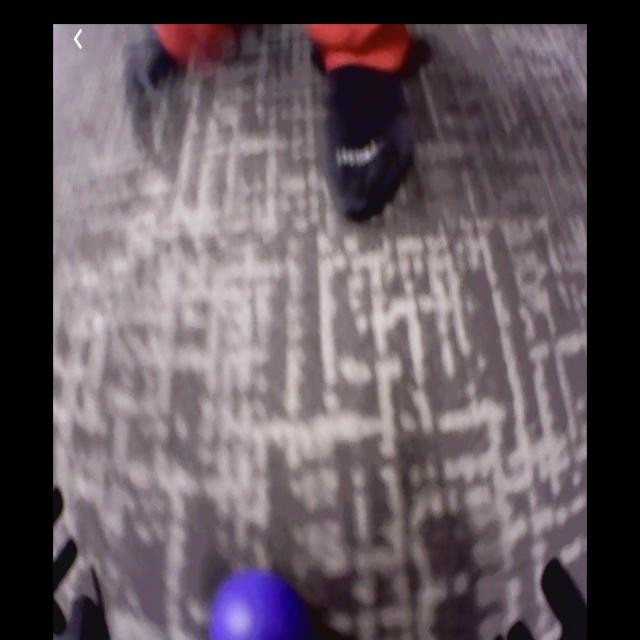ball: (212, 566, 299, 639)
